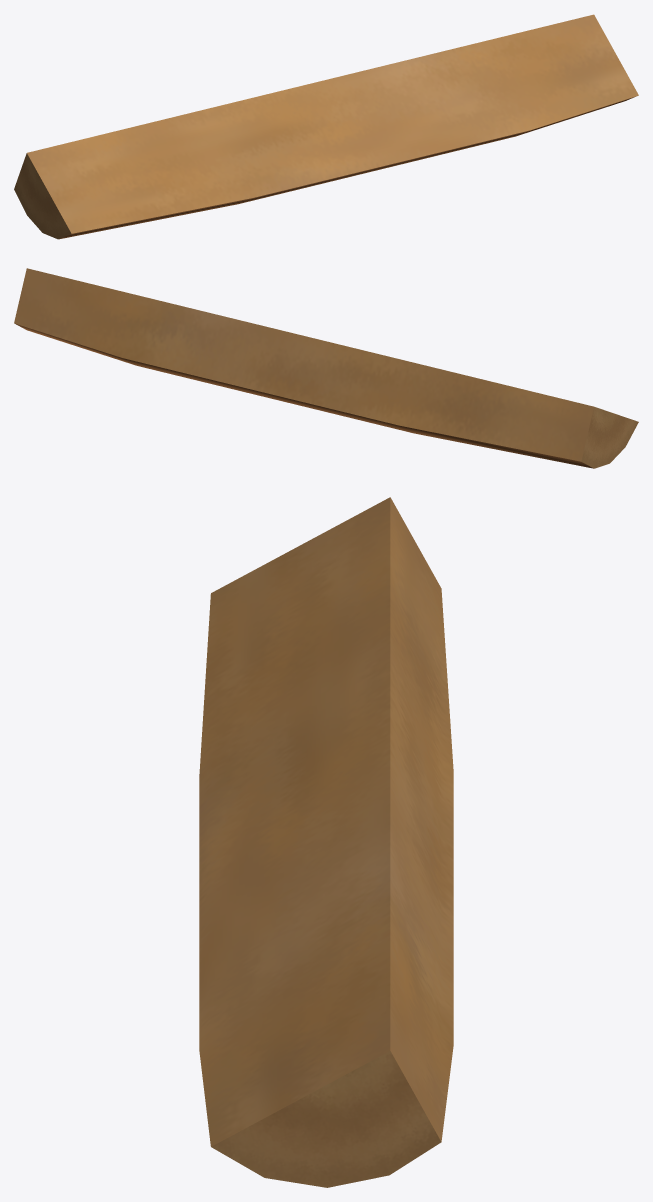
The model's file is Timber_Cut_2.obj.
The picture shows the model from 3 angles, top to bottom: view 1: azimuth 30°, elevation 25°; view 2: azimuth 150°, elevation 25°; view 3: azimuth 270°, elevation 25°; orthographic projection. The views are drawn at different scales.
Visible parts, largest first — view 1: Cylinder.085_Cylinder.143; view 2: Cylinder.085_Cylinder.143; view 3: Cylinder.085_Cylinder.143.
Part boxes in pixels (x1,y1,x2,y2): Cylinder.085_Cylinder.143: (14,14,638,239); Cylinder.085_Cylinder.143: (14,268,638,468); Cylinder.085_Cylinder.143: (199,497,453,1187).
Size of the model in its own units: 0.8428 by 0.1082 by 0.1637.
